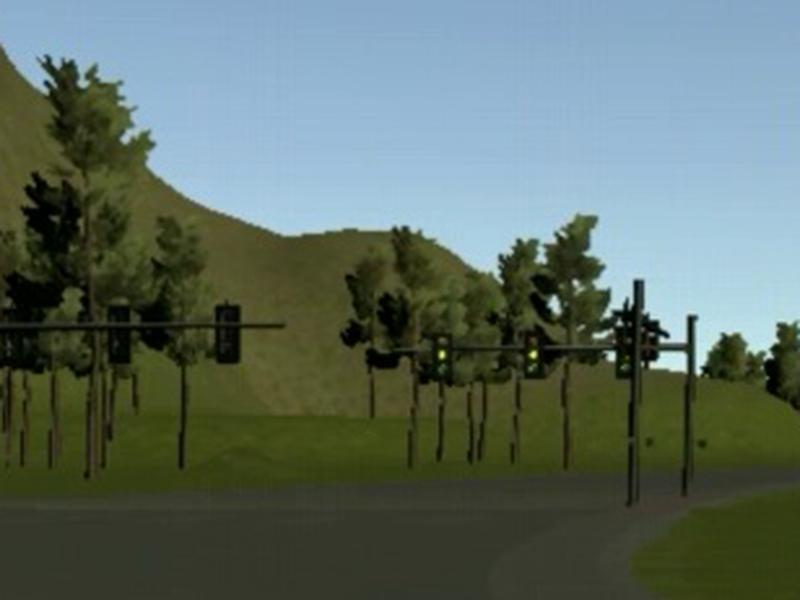Yellow: (431, 331, 453, 382), (523, 329, 543, 379)
